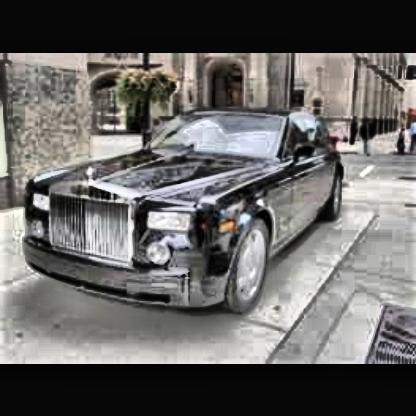Rolls-Royce Phantom Sedan 2012: (26, 112, 347, 319)
